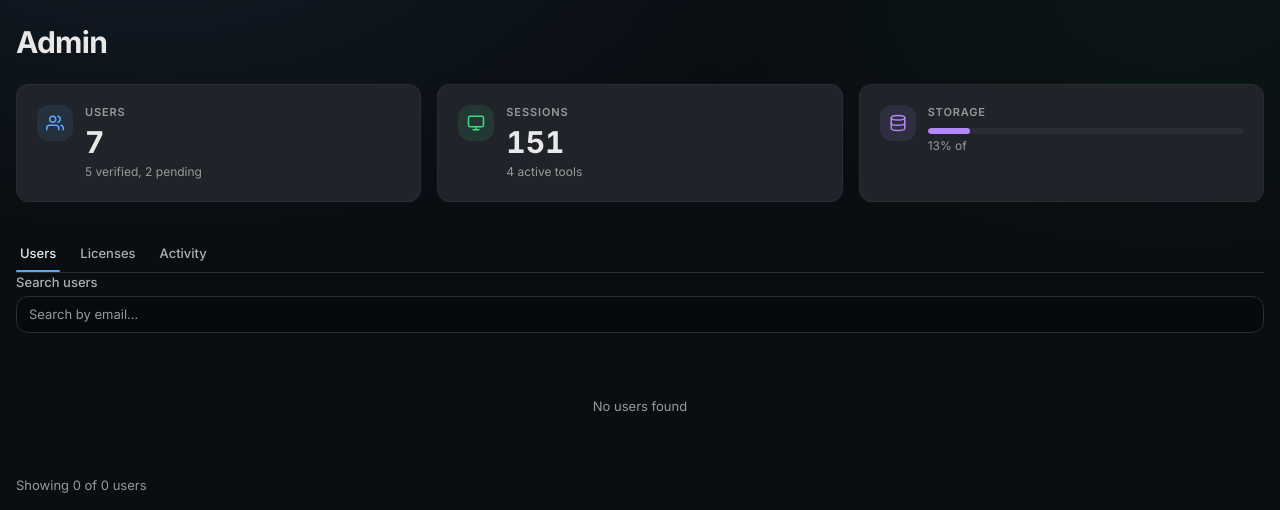
Test: AdminDashboard › activity shows the reason and flags operator-recorded entries
Click the tab "Activity" at point(183, 253), box [156,234,211,272]
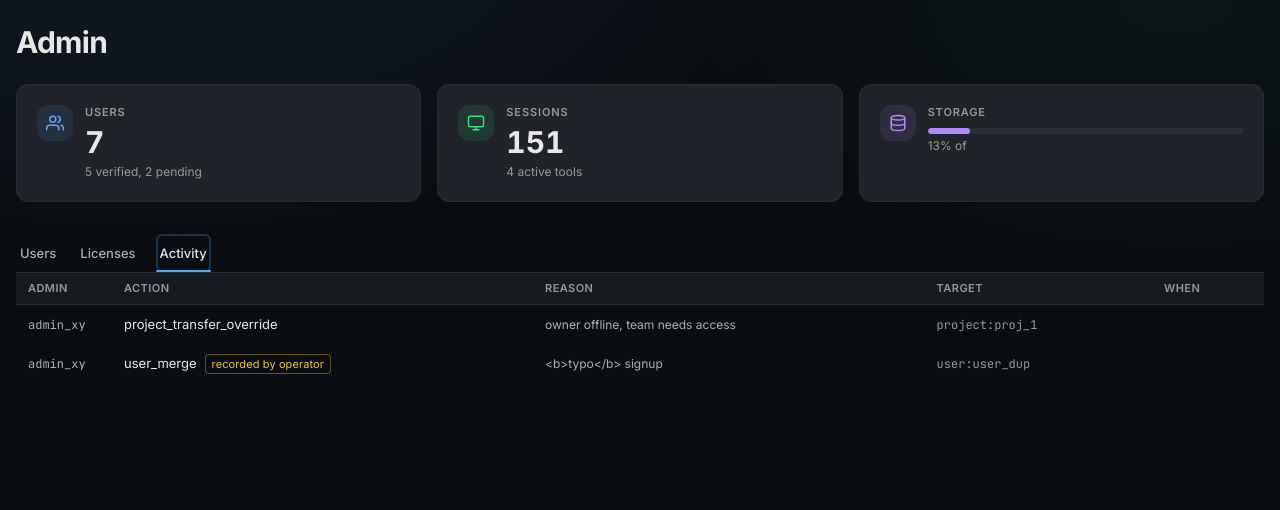
Now the text "owner offline, team needs access" is shown, box [545,317,736,332]
Now the text "<b>typo</b> signup" is shown, box [545,356,663,371]
Now the text "recorded by operator" is shown once, box [205,354,331,374]
